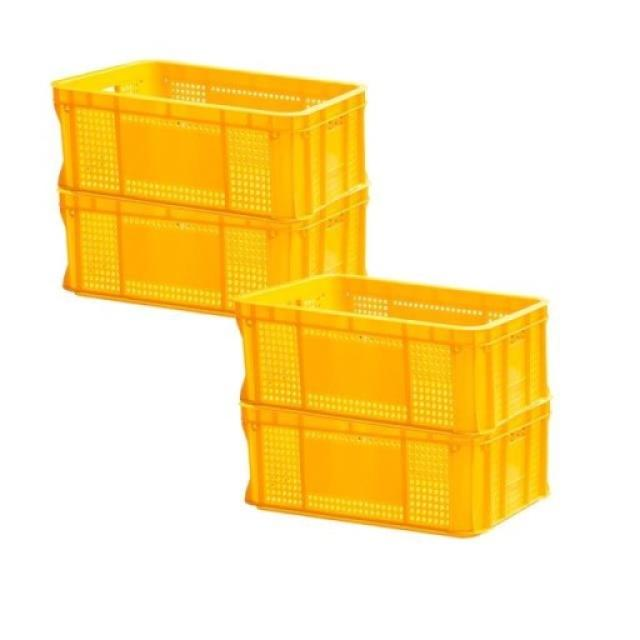basket: (39, 46, 379, 229), (225, 264, 560, 444), (242, 404, 550, 537), (60, 189, 368, 314)
